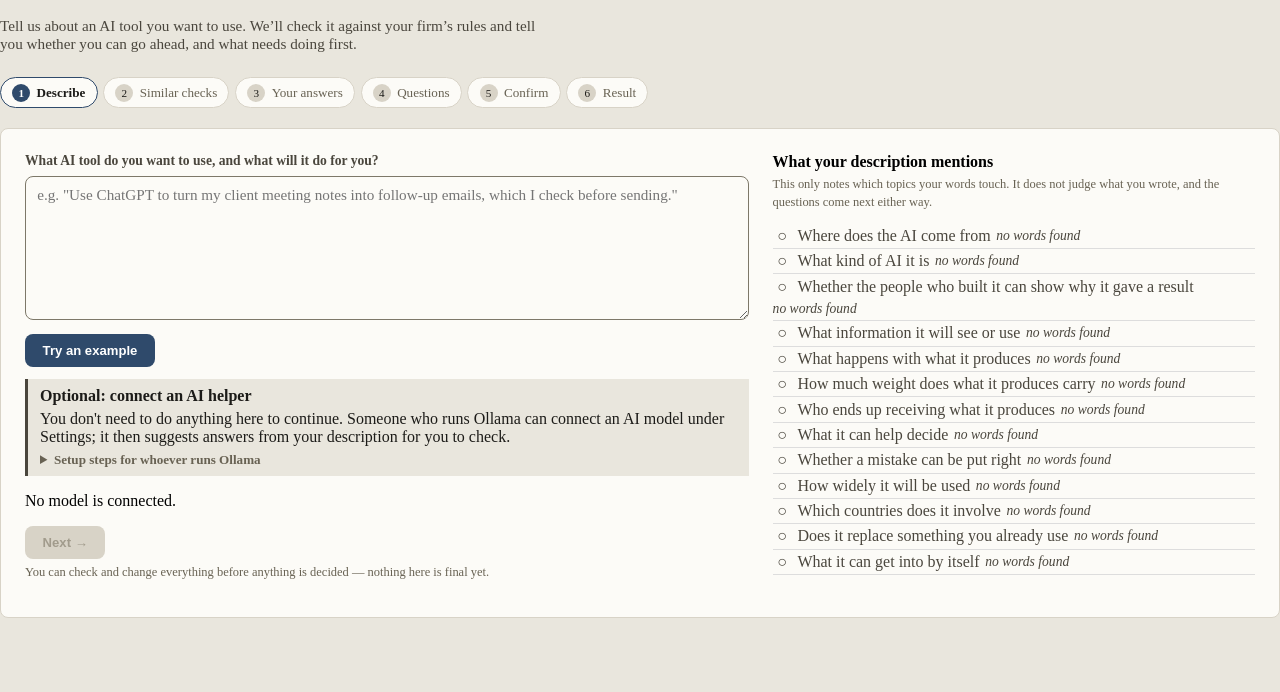
Test: TC-UC-2-01: an identical earlier use case is surfaced before any intake question › a 1LoD reader is told a similar use exists but is not shown the other person's case or its tier
Click the text box labelled "What AI tool do you want to use" at (387, 248), box [25,176,749,320]
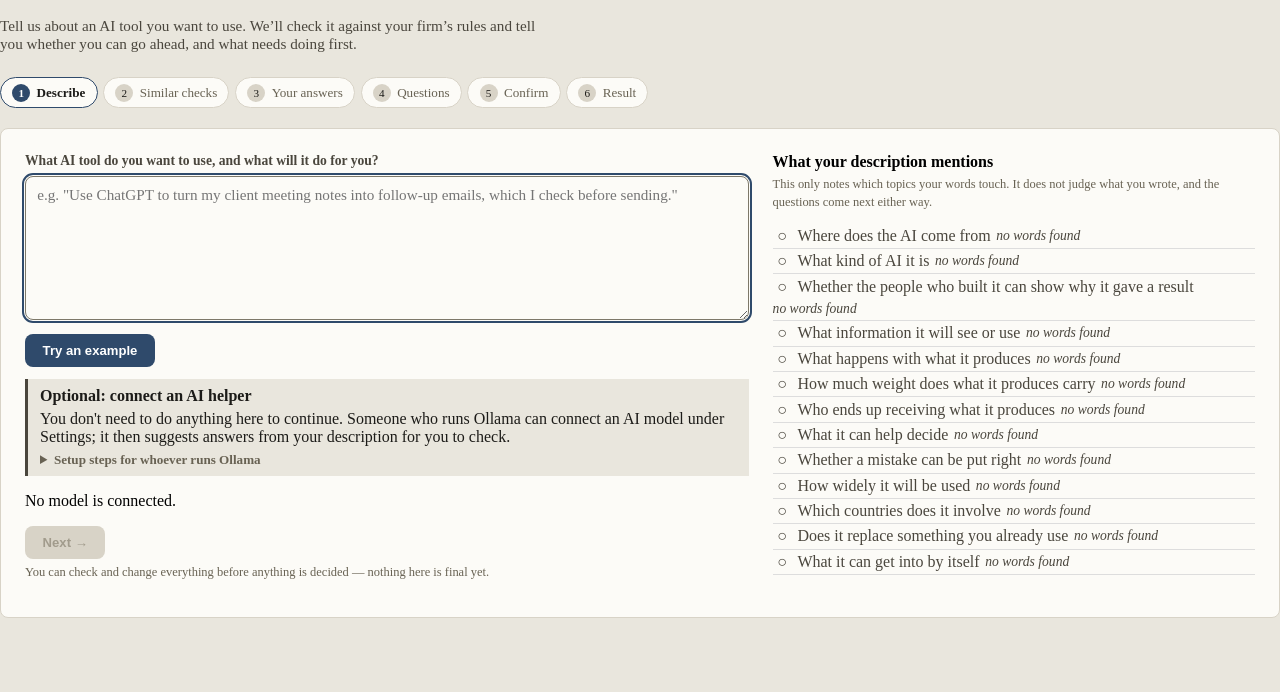
Type keys "An AI that reads incoming client emails and drafts replies for the RM team."
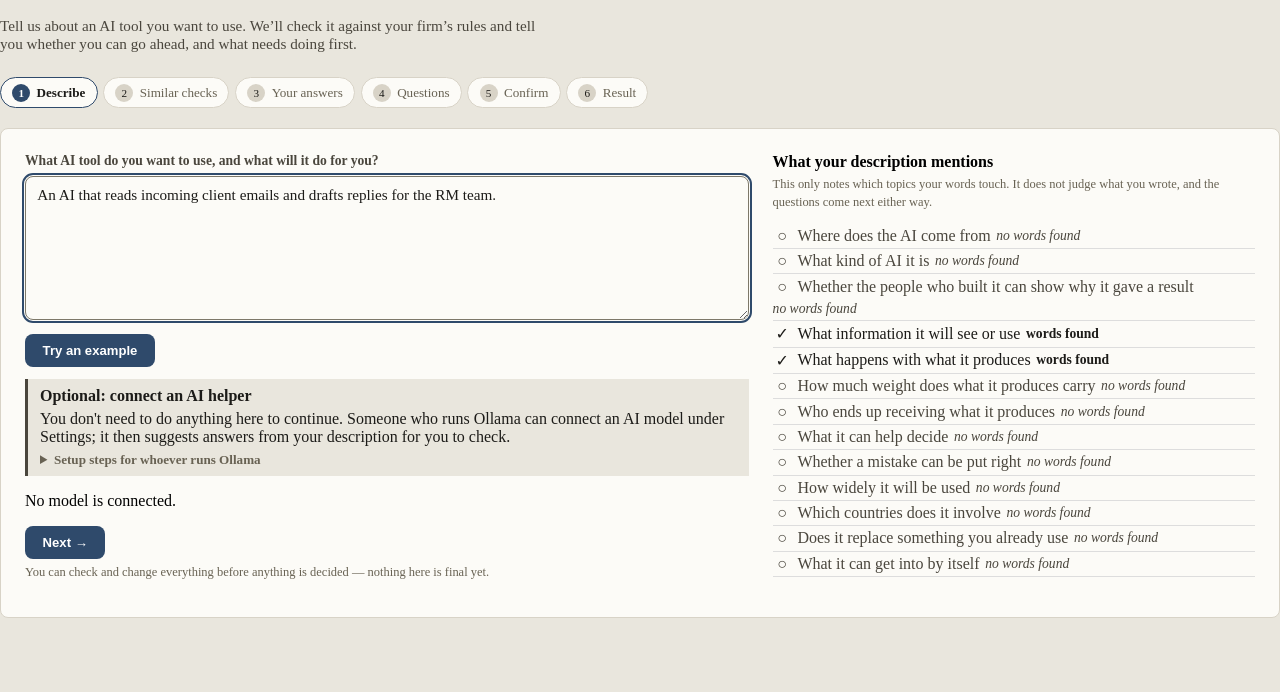
Click the button "Next →" at (65, 542), box [25,526,105,558]
(page scrolled)
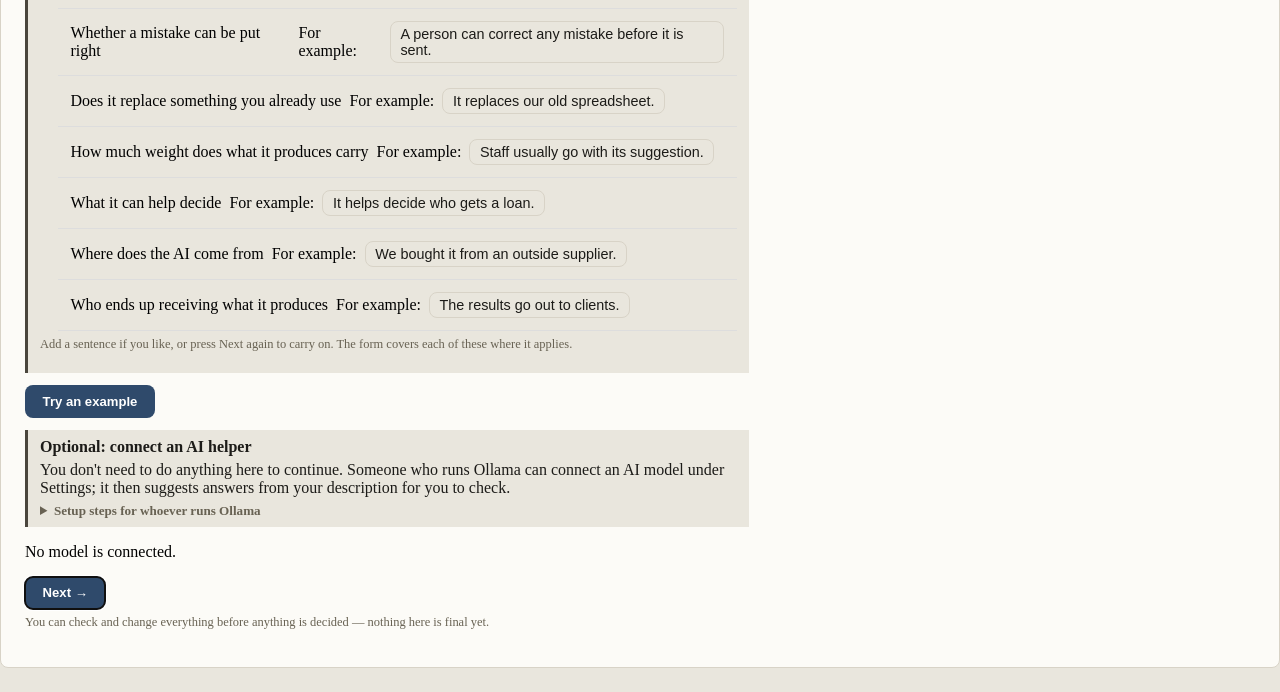
Click the button "Next →" at (65, 593), box [25,577,105,609]
(page scrolled)
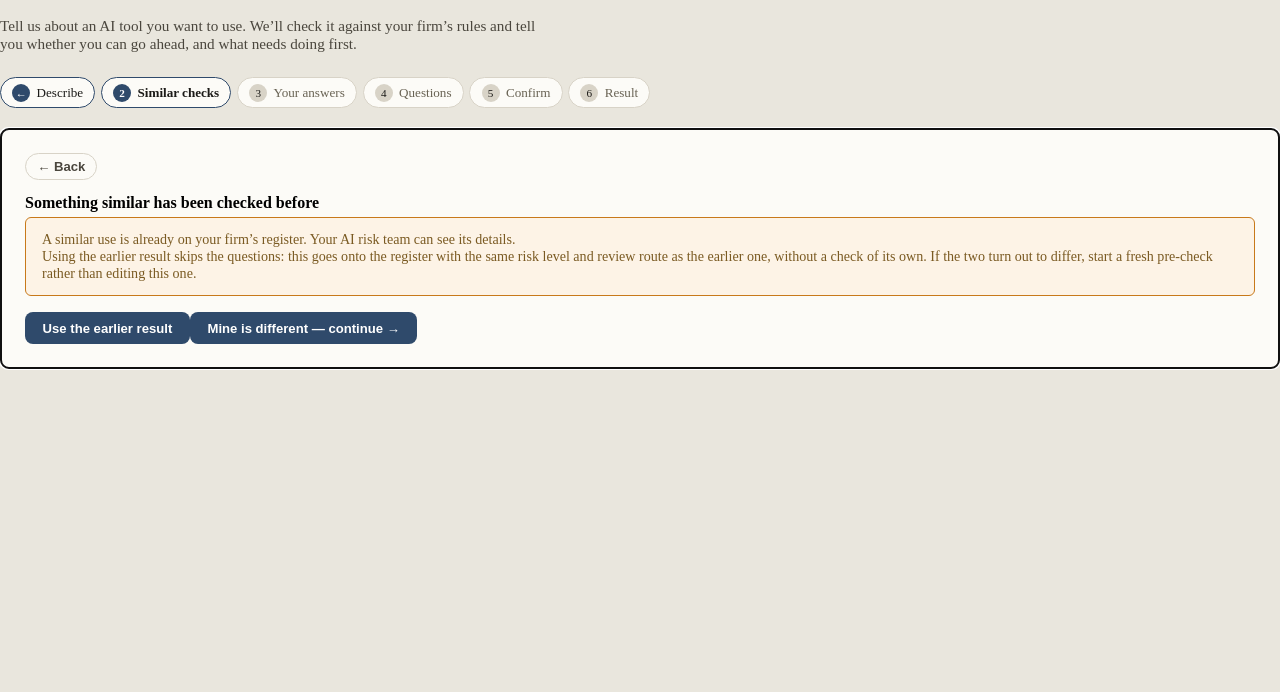
Check: the message does not show "An AI that reads incoming client emails and drafts replies for the RM team."
Check: the text "Something similar has been checked before" is shown, box [25,194,319,211]
Check: the message shows "similar use is already on your firm.s register", box [42,231,516,247]
